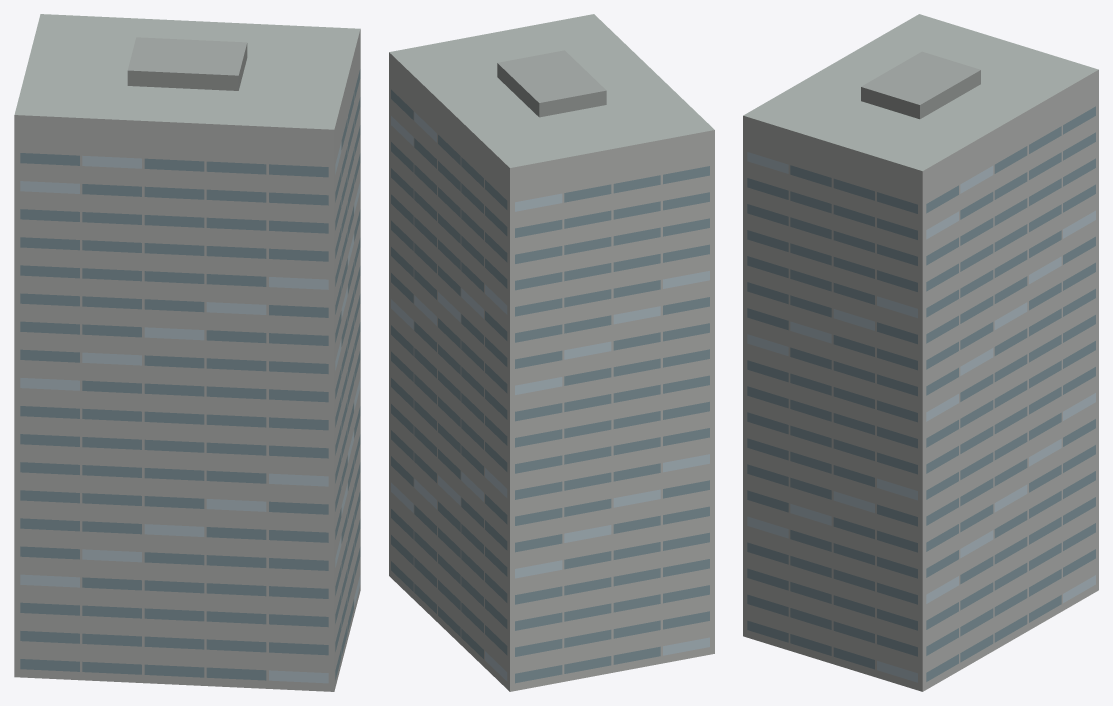
The model's file is apt-a10022504.glb.
The picture shows the model from 3 angles, left to right: view 1: azimuth 30°, elevation 25°; view 2: azimuth 150°, elevation 25°; view 3: azimuth 270°, elevation 25°; orthographic projection. The views are drawn at different scales.
Visible parts, largest first — view 1: apt-a10022504; view 2: apt-a10022504; view 3: apt-a10022504.
Boxes of the visible parts, x1=… form: apt-a10022504: x1=14, y1=14, x2=360, y2=691; apt-a10022504: x1=389, y1=14, x2=714, y2=691; apt-a10022504: x1=743, y1=14, x2=1098, y2=691.
Size of the model in its own units: 56.72 by 90 by 54.25.
